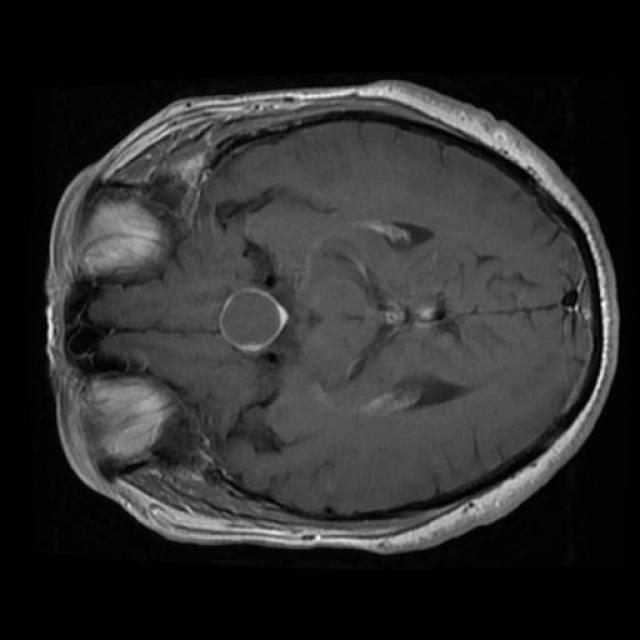Pituitary: (220, 287, 288, 363)
